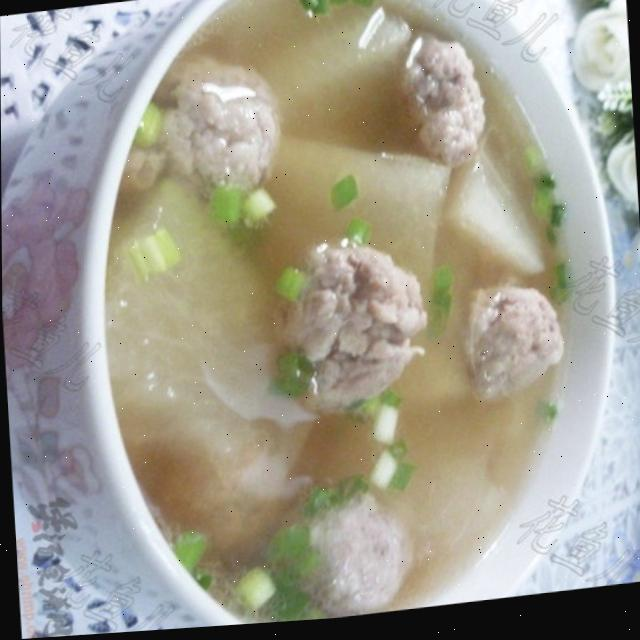汤锅炖物: (55, 0, 624, 637)
